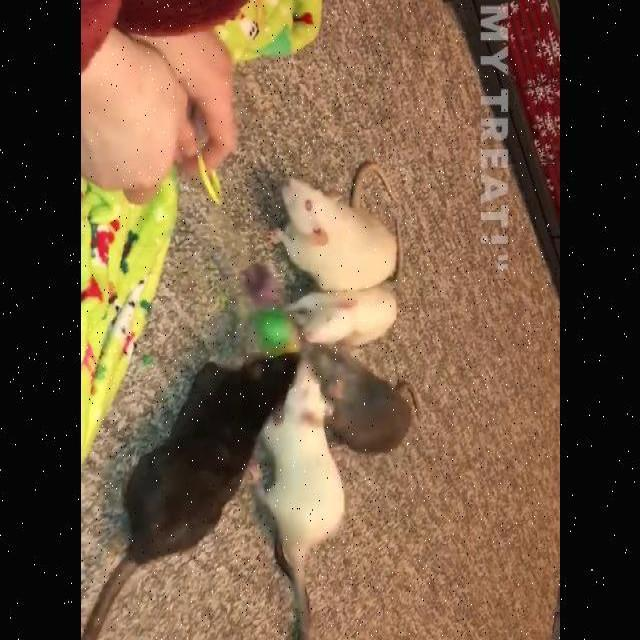rat: (80, 353, 298, 640), (257, 358, 346, 640), (271, 160, 399, 288), (311, 345, 418, 458), (276, 291, 400, 345)
